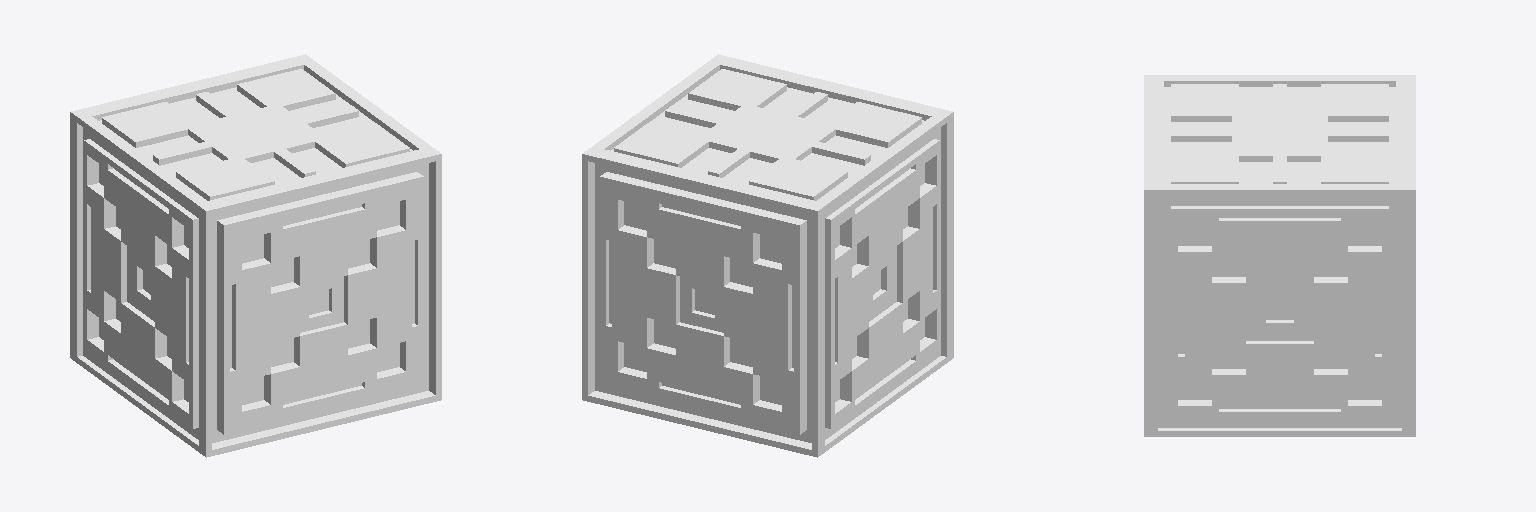
The model's file is FlyBox.obj.
The picture shows the model from 3 angles: view 1: azimuth 30°, elevation 25°; view 2: azimuth 150°, elevation 25°; view 3: azimuth 270°, elevation 25°; orthographic projection.
Parts seen in each view (by area): view 1: object 1; view 2: object 1; view 3: object 1.
Boxes of the visible parts, <box> form: object 1: <box>70,54,441,457</box>; object 1: <box>582,54,953,457</box>; object 1: <box>1144,75,1415,436</box>.
Size of the model in its own units: 4 by 4 by 4.